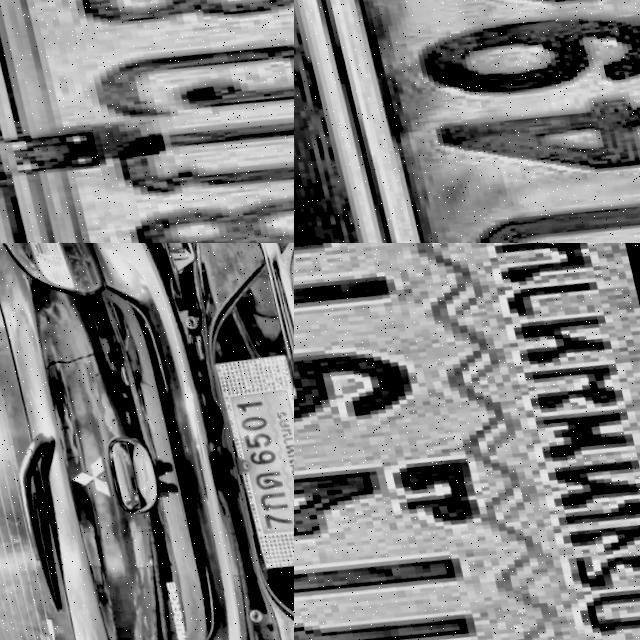license-plate: (294, 243, 640, 640), (294, 0, 640, 243), (0, 0, 294, 243), (220, 368, 294, 533)
